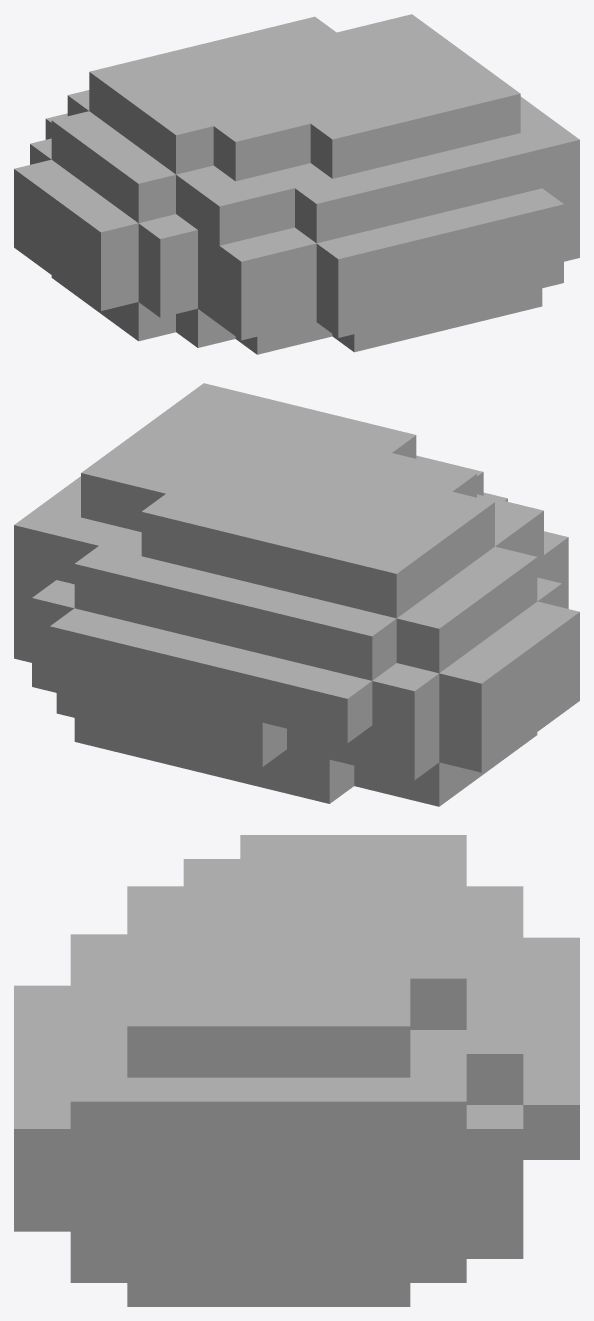
File: SmallRock2.obj
3 views of the same model, one above another, from view 1: azimuth 30°, elevation 25°; view 2: azimuth 150°, elevation 25°; view 3: azimuth 270°, elevation 25° (orthographic). The views are drawn at different scales.
Size of the model in its own units: 11 by 5 by 10.
Materials: 1 (1 with a texture image).
